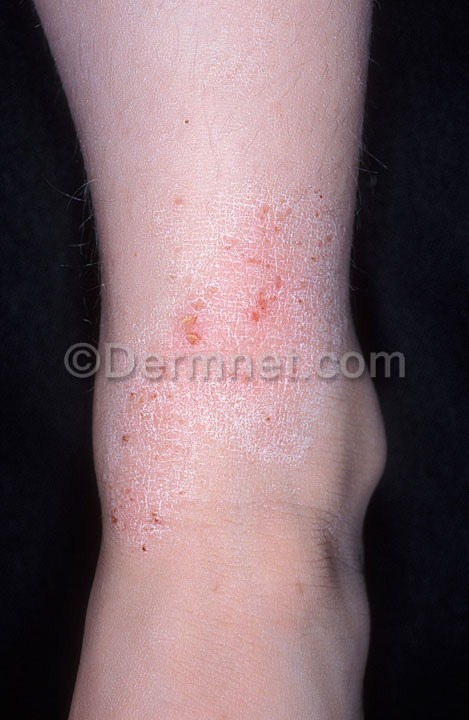Eczema: (96, 163, 360, 547)
